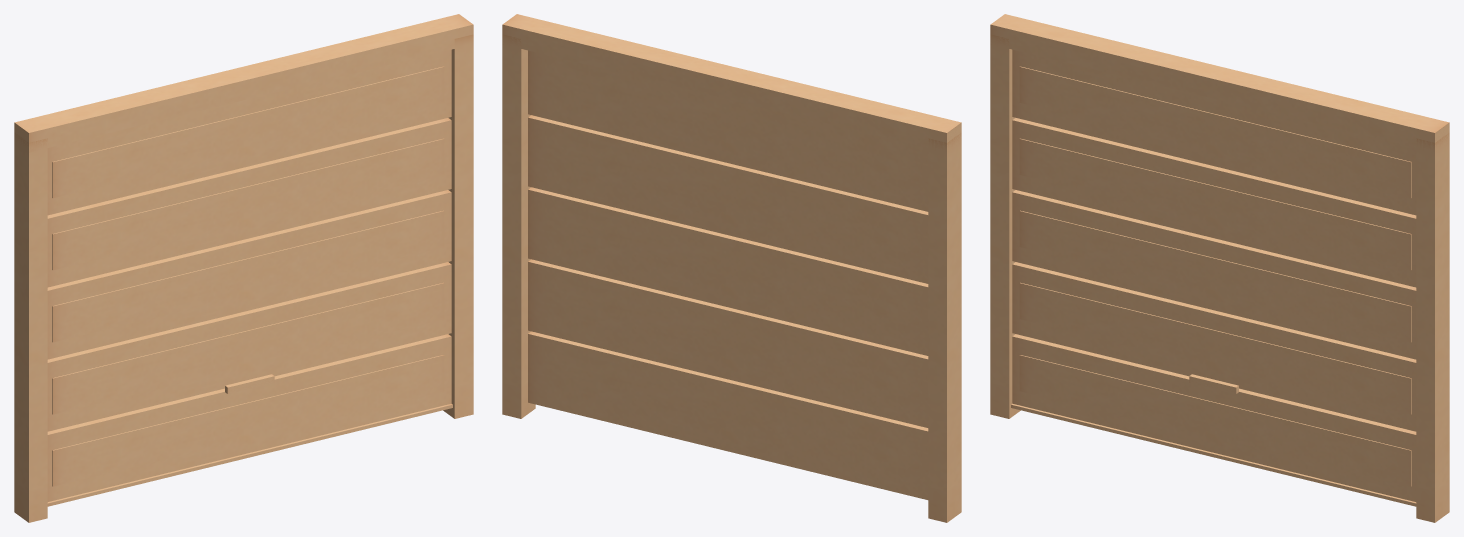
Rendered from Door_Garage.fbx.
The picture shows the model from 3 angles, left to right: view 1: azimuth 30°, elevation 25°; view 2: azimuth 150°, elevation 25°; view 3: azimuth 330°, elevation 25°; orthographic projection.
Visible parts, largest first — view 1: Door_Garage; view 2: Door_Garage; view 3: Door_Garage.
Part boxes in pixels (x1,y1,x2,y2): Door_Garage: (14, 14, 473, 522); Door_Garage: (502, 14, 961, 522); Door_Garage: (990, 14, 1449, 522).
Size of the model in its own units: 2.84 by 2.38 by 0.16.
